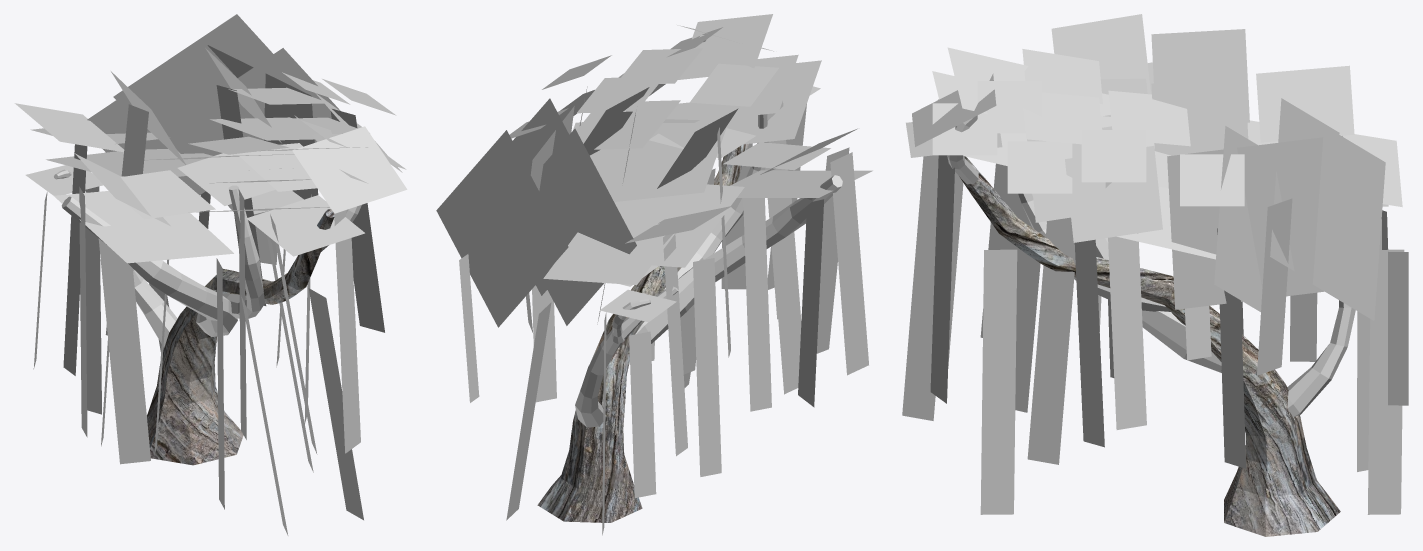
Rendered from Blue_Tree.fbx.
The picture shows the model from 3 angles, left to right: view 1: azimuth 30°, elevation 25°; view 2: azimuth 150°, elevation 25°; view 3: azimuth 270°, elevation 25°; orthographic projection. The views are drawn at different scales.
Parts seen in each view (by area): view 1: Cylinder, Plane.018, Plane.033, Plane.038, Plane.056, Plane.054, Plane.014, Cylinder.001, Plane.037, Plane.003, Plane.006, Plane.019 (+31 smaller); view 2: Plane.055, Cylinder, Plane.056, Plane.042, Plane.017, Plane.011, Plane.012, Plane.049, Plane.048, Plane.010, Cylinder.001, Plane.015 (+30 smaller); view 3: Cylinder, Plane.053, Plane.055, Plane.003, Plane.005, Plane.002, Plane.006, Plane.030, Plane.050, Plane.052, Plane.051, Plane.034 (+33 smaller).
Part boxes in pixels (left/top/right/bottom): Cylinder: left=147, top=209, right=334, bottom=465; Plane.018: left=98, top=238, right=150, bottom=464; Plane.033: left=54, top=191, right=233, bottom=263; Plane.038: left=292, top=126, right=407, bottom=213; Plane.056: left=87, top=42, right=235, bottom=195; Plane.054: left=163, top=48, right=340, bottom=215; Plane.014: left=334, top=210, right=360, bottom=453; Cylinder.001: left=61, top=196, right=237, bottom=336; Plane.037: left=246, top=195, right=364, bottom=256; Plane.003: left=308, top=288, right=363, bottom=520; Plane.006: left=330, top=109, right=384, bottom=332; Plane.019: left=80, top=186, right=101, bottom=414; Plane.055: left=436, top=130, right=568, bottom=327; Cylinder: left=537, top=144, right=748, bottom=522; Plane.056: left=539, top=128, right=636, bottom=325; Plane.042: left=594, top=102, right=733, bottom=201; Plane.017: left=830, top=152, right=868, bottom=375; Plane.011: left=693, top=258, right=721, bottom=476; Plane.012: left=743, top=198, right=771, bottom=411; Plane.049: left=543, top=221, right=674, bottom=285; Plane.048: left=614, top=184, right=744, bottom=267; Plane.010: left=629, top=331, right=656, bottom=498; Cylinder.001: left=635, top=175, right=842, bottom=343; Plane.015: left=768, top=198, right=801, bottom=394; Cylinder: left=959, top=156, right=1340, bottom=536; Plane.053: left=1167, top=137, right=1324, bottom=309; Plane.055: left=1312, top=126, right=1385, bottom=320; Plane.003: left=980, top=249, right=1017, bottom=514; Plane.005: left=1027, top=217, right=1075, bottom=464; Plane.002: left=1367, top=249, right=1404, bottom=514; Plane.006: left=1105, top=182, right=1146, bottom=429; Plane.030: left=1065, top=146, right=1162, bottom=242; Plane.050: left=1256, top=65, right=1354, bottom=142; Plane.052: left=1151, top=78, right=1248, bottom=155; Plane.051: left=1151, top=29, right=1249, bottom=122; Plane.034: left=1051, top=14, right=1150, bottom=94.
Size of the model in its own units: 1331 by 1518 by 1570.
